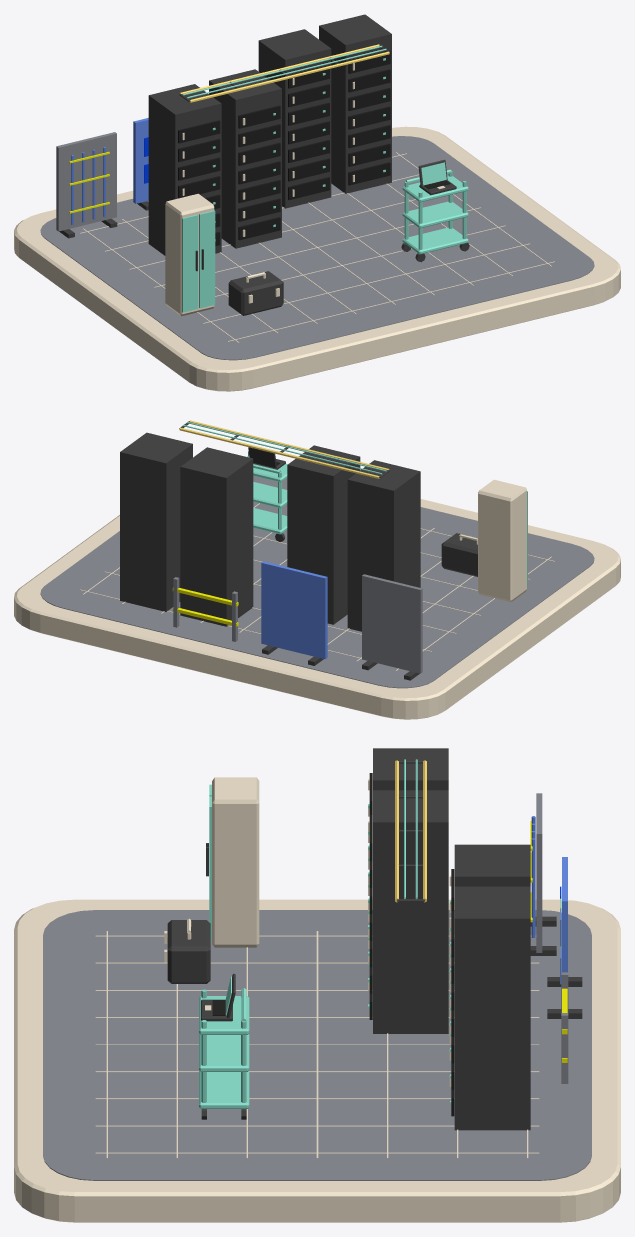
File: room.fbx
The picture shows the model from 3 angles, top to bottom: view 1: azimuth 30°, elevation 25°; view 2: azimuth 150°, elevation 25°; view 3: azimuth 270°, elevation 25°; orthographic projection. The views are drawn at different scales.
Parts seen in each view (by area): view 1: COM-02 Floor Surface, COM-01 Rounded Base Direct, Server case, Server case.003, Server case.001, Server case.002, Panel, Equipment case, Case, Door, Door.001, Panel.001 (+28 smaller); view 2: COM-02 Floor Surface, COM-01 Rounded Base Direct, Server case.002, Server case.003, Server case, Server case.001, Panel.001, Equipment case, Panel, Case, Cable rail.001, Tray (+4 smaller); view 3: COM-02 Floor Surface, COM-01 Rounded Base Direct, Server case.003, Server case.001, Equipment case, Server case.002, Server case, Case, Tray.001, Tray, Panel, Tray.002 (+4 smaller).
Boxes of the visible parts, bbox=[...] form: COM-02 Floor Surface: bbox=[40, 136, 594, 360]; COM-01 Rounded Base Direct: bbox=[14, 126, 620, 391]; Server case: bbox=[148, 84, 221, 255]; Server case.003: bbox=[319, 14, 391, 193]; Server case.001: bbox=[209, 69, 281, 248]; Server case.002: bbox=[258, 29, 331, 208]; Panel: bbox=[56, 132, 116, 231]; Equipment case: bbox=[165, 193, 214, 316]; Case: bbox=[228, 271, 283, 315]; Door: bbox=[182, 214, 198, 312]; Door.001: bbox=[199, 210, 215, 308]; Panel.001: bbox=[133, 118, 148, 203]; COM-02 Floor Surface: bbox=[40, 476, 594, 688]; COM-01 Rounded Base Direct: bbox=[14, 456, 620, 719]; Server case.002: bbox=[180, 447, 253, 626]; Server case.003: bbox=[120, 432, 192, 611]; Server case: bbox=[347, 460, 420, 631]; Server case.001: bbox=[287, 445, 360, 624]; Panel.001: bbox=[261, 561, 327, 659]; Equipment case: bbox=[478, 479, 526, 602]; Panel: bbox=[362, 574, 422, 673]; Case: bbox=[441, 533, 477, 576]; Cable rail.001: bbox=[179, 427, 379, 478]; Tray: bbox=[253, 508, 287, 534]; COM-02 Floor Surface: bbox=[43, 910, 591, 1180]; COM-01 Rounded Base Direct: bbox=[14, 899, 620, 1222]; Server case.003: bbox=[454, 886, 530, 1130]; Server case.001: bbox=[373, 790, 448, 1033]; Equipment case: bbox=[212, 777, 259, 947]; Server case.002: bbox=[454, 844, 530, 886]; Server case: bbox=[373, 748, 448, 790]; Case: bbox=[167, 920, 210, 983]; Tray.001: bbox=[199, 1034, 249, 1071]; Tray: bbox=[199, 1071, 249, 1108]; Panel: bbox=[536, 793, 542, 952]; Tray.002: bbox=[199, 996, 249, 1034].
Size of the model in its own units: 600 by 235 by 520.
